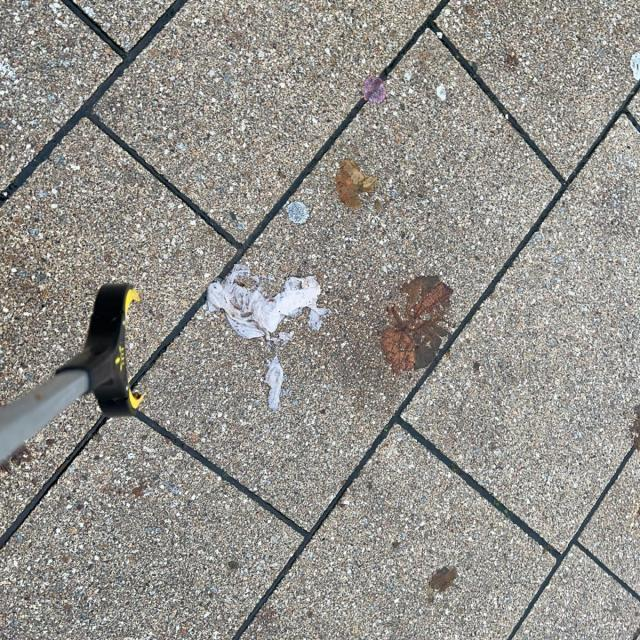Paper: (205, 262, 330, 350)
